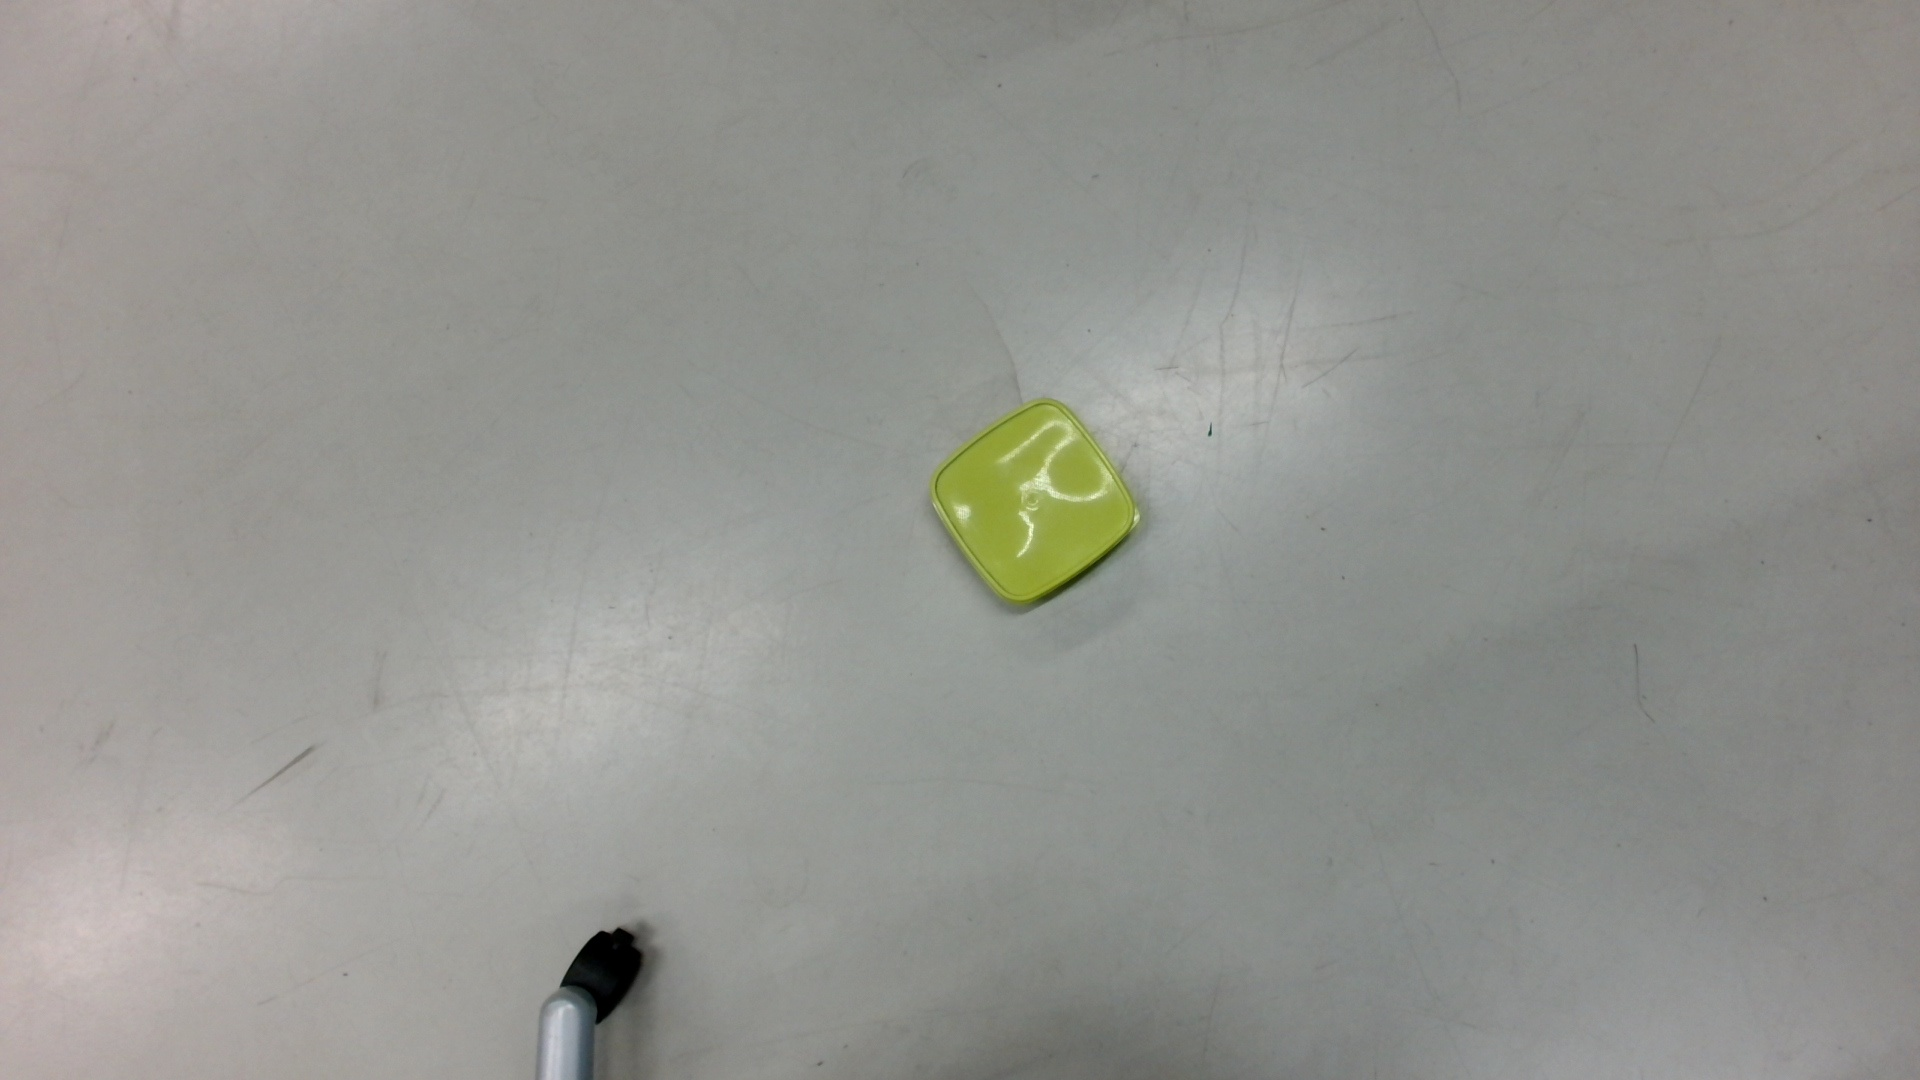Box: (927, 393, 1145, 617)
